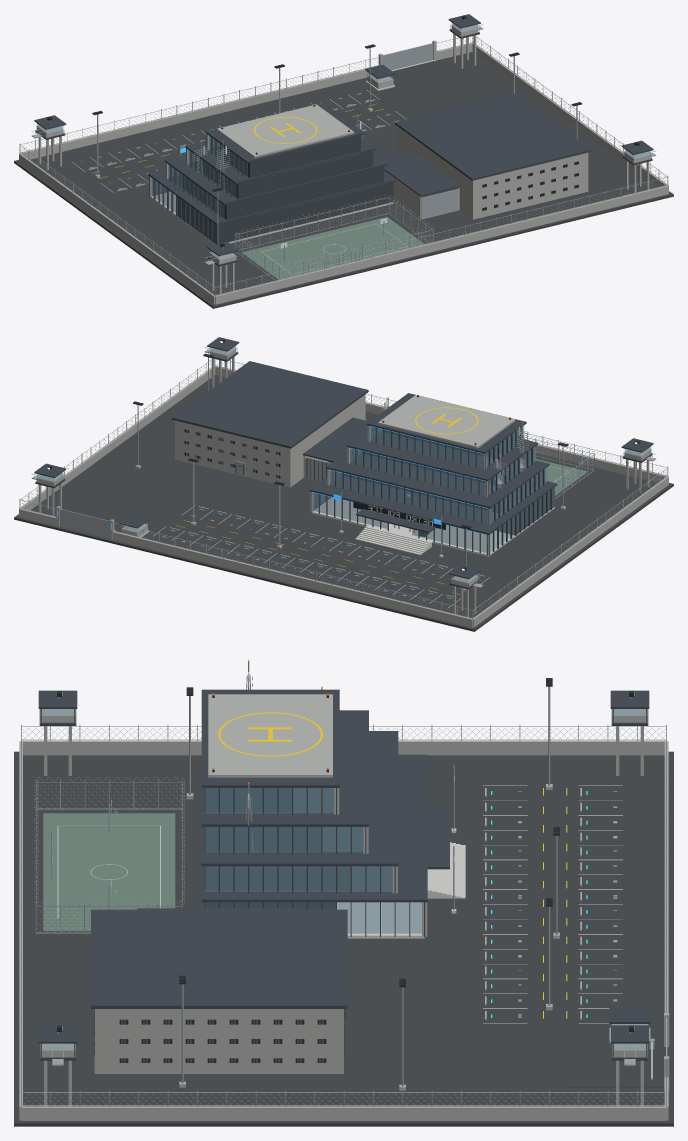
Rendered from police_headquarters.glb.
3 views of the same model, one above another, from view 1: azimuth 30°, elevation 25°; view 2: azimuth 150°, elevation 25°; view 3: azimuth 270°, elevation 25° (orthographic). The views are drawn at different scales.
Visible parts, largest first — view 1: Seamless compound asphalt foundation, Perimeter heavy concrete base, Prison armored roof slab, HQ tier solid service core, Reinforced detention cell block, Detention recreation court, HQ rear administrative core, Reinforced rooftop helipad, HQ side glazing, Sally port secure canopy, HQ side fin, HQ tier 2 roof (+19 smaller); view 2: Seamless compound asphalt foundation, Prison armored roof slab, Perimeter heavy concrete base, HQ blue glazing, Reinforced detention cell block, HQ tier 1 roof, HQ tier 2 roof, Reinforced rooftop helipad, HQ tier 3 roof, HQ side glazing, HQ tier 1 floor, HQ vertical charcoal fin (+22 smaller); view 3: Seamless compound asphalt foundation, Prison armored roof slab, Perimeter heavy concrete base, Reinforced detention cell block, HQ side glazing, Detention recreation court, Reinforced rooftop helipad, HQ tier solid service core, HQ tier 1 roof, HQ tier 2 roof, HQ tier 3 roof, HQ tier 4 roof (+23 smaller).
Part boxes in pixels (<box>): Seamless compound asphalt foundation: <box>14,52,673,308</box>; Perimeter heavy concrete base: <box>19,43,668,304</box>; Prison armored roof slab: <box>394,93,591,180</box>; HQ tier solid service core: <box>182,135,384,219</box>; Reinforced detention cell block: <box>397,126,588,219</box>; Detention recreation court: <box>241,217,424,279</box>; HQ rear administrative core: <box>177,182,393,244</box>; Reinforced rooftop helipad: <box>216,104,354,157</box>; HQ side glazing: <box>151,135,385,242</box>; Sally port secure canopy: <box>380,149,460,196</box>; HQ side fin: <box>149,134,243,241</box>; HQ tier 2 roof: <box>165,152,388,204</box>; Seamless compound asphalt foundation: <box>14,375,673,631</box>; Prison armored roof slab: <box>172,361,368,448</box>; Perimeter heavy concrete base: <box>19,366,668,627</box>; HQ blue glazing: <box>313,427,487,552</box>; Reinforced detention cell block: <box>175,394,365,487</box>; HQ tier 1 roof: <box>309,472,557,534</box>; HQ tier 2 roof: <box>326,449,549,508</box>; Reinforced rooftop helipad: <box>378,395,515,448</box>; HQ tier 3 roof: <box>346,427,538,481</box>; HQ side glazing: <box>314,426,554,551</box>; HQ tier 1 floor: <box>312,497,554,556</box>; HQ vertical charcoal fin: <box>318,427,488,555</box>; Seamless compound asphalt foundation: <box>14,751,673,1126</box>; Prison armored roof slab: <box>91,909,347,1008</box>; Perimeter heavy concrete base: <box>19,740,668,1120</box>; Reinforced detention cell block: <box>94,1009,343,1073</box>; HQ side glazing: <box>205,788,421,933</box>; Detention recreation court: <box>43,813,175,931</box>; Reinforced rooftop helipad: <box>208,694,332,777</box>; HQ tier solid service core: <box>204,788,350,890</box>; HQ tier 1 roof: <box>201,754,427,902</box>; HQ tier 2 roof: <box>201,731,398,866</box>; HQ tier 3 roof: <box>201,710,368,826</box>; HQ tier 4 roof: <box>201,689,339,787</box>.
Size of what is drawn, in the model's own units: 120 by 24 by 90.
